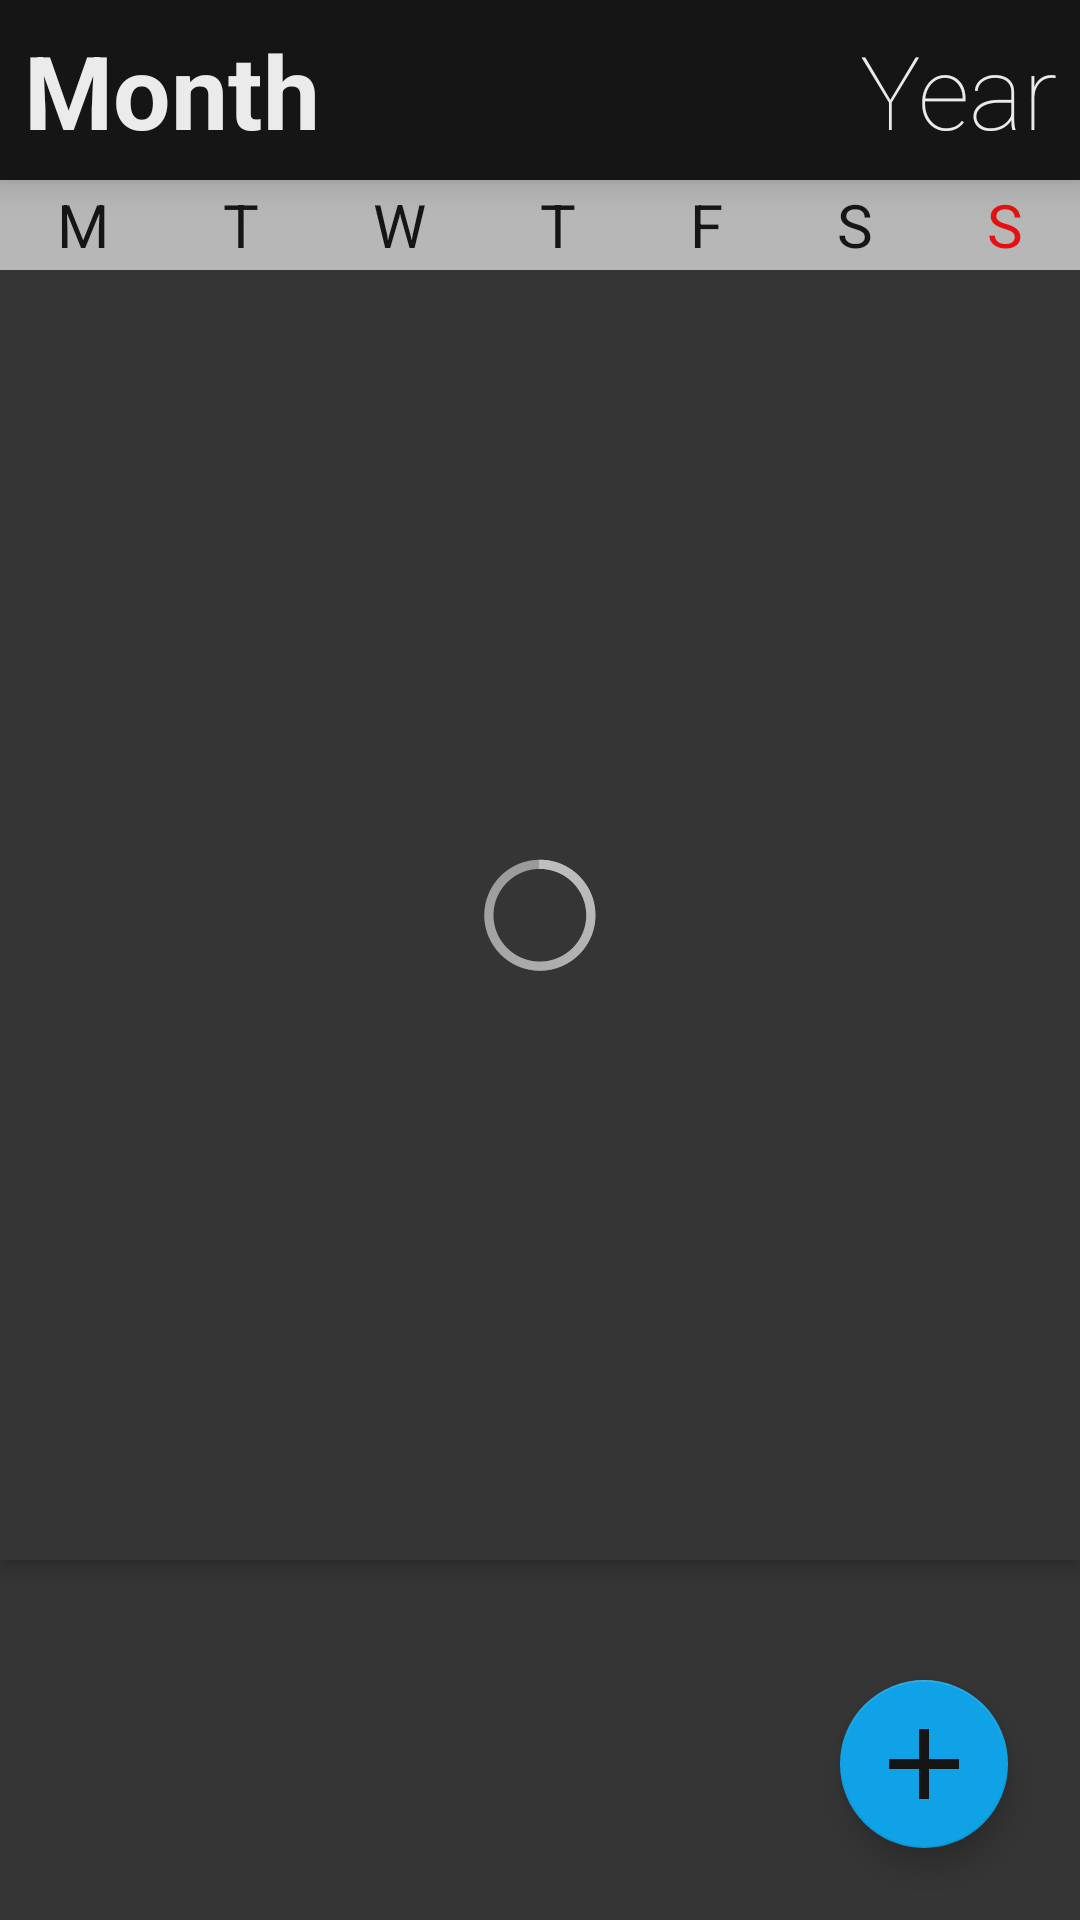

Icon bounding boxes for this 1080 × 1920 phone screenshot, format (x1, y1, x2, y2):
Add Reminder / Event: (840, 1680, 1008, 1848)
